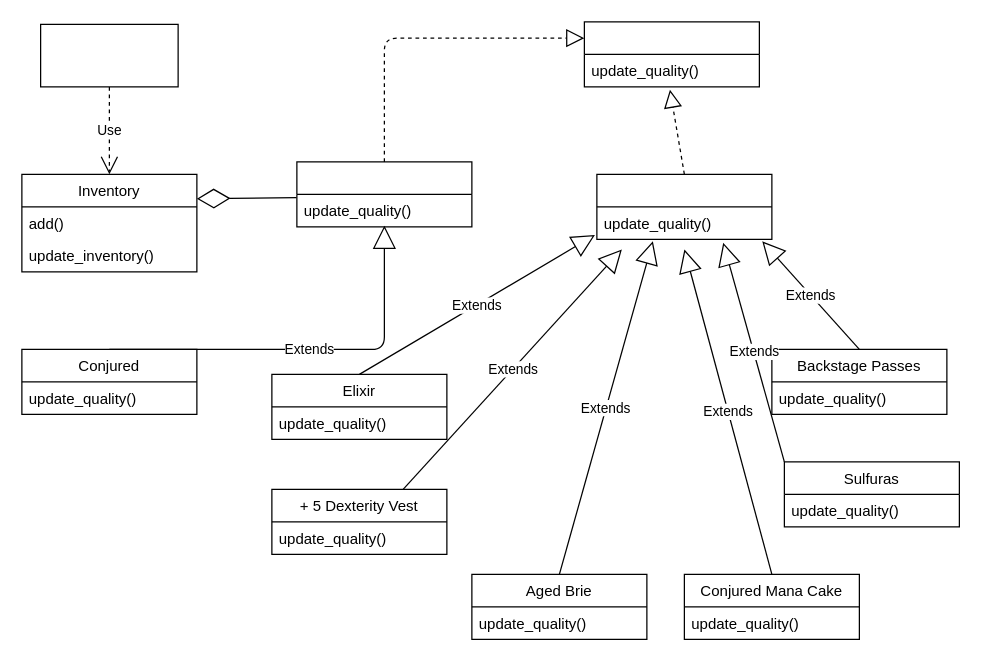
The diagram is 981 pixels wide and 665 high, and some of its shapes have lost their labels. The shapes that lost their labels are listed below. From the top down, each one's box as (x1, y1, x2, y2) in pixels, then its label:
(39, 23, 178, 87): Gilded Rose
(583, 21, 759, 87): Updatable
(296, 161, 472, 227): Item
(596, 173, 772, 239): NoramlItem
